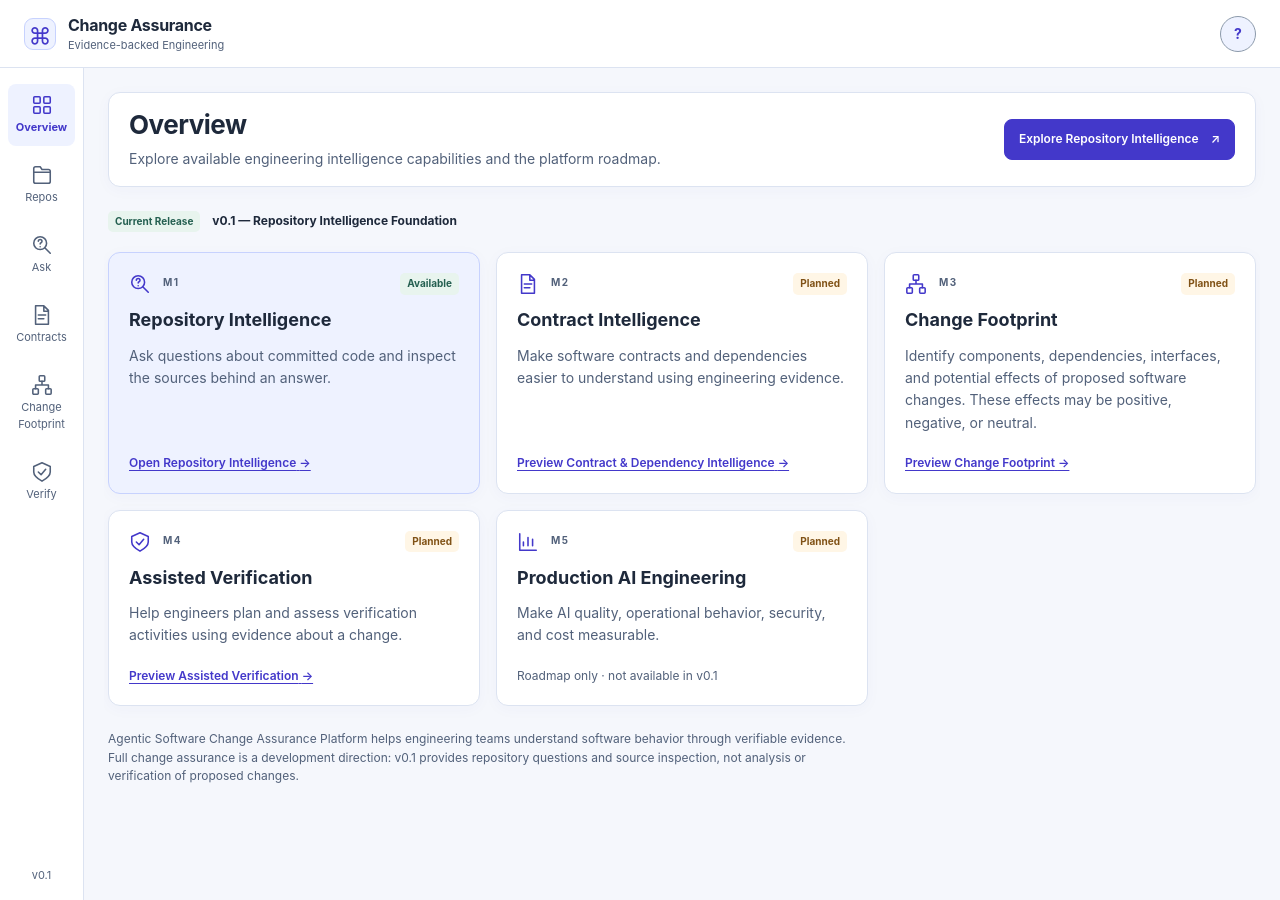
uses consistent decorative icons and keeps planned status on Change Footprint rather than repeated sidebar text
The image size is (1280, 900).
Click the link named "Change Footprint — Planned M3".
click(42, 403)  # box x1=18 y1=374 x2=65 y2=431
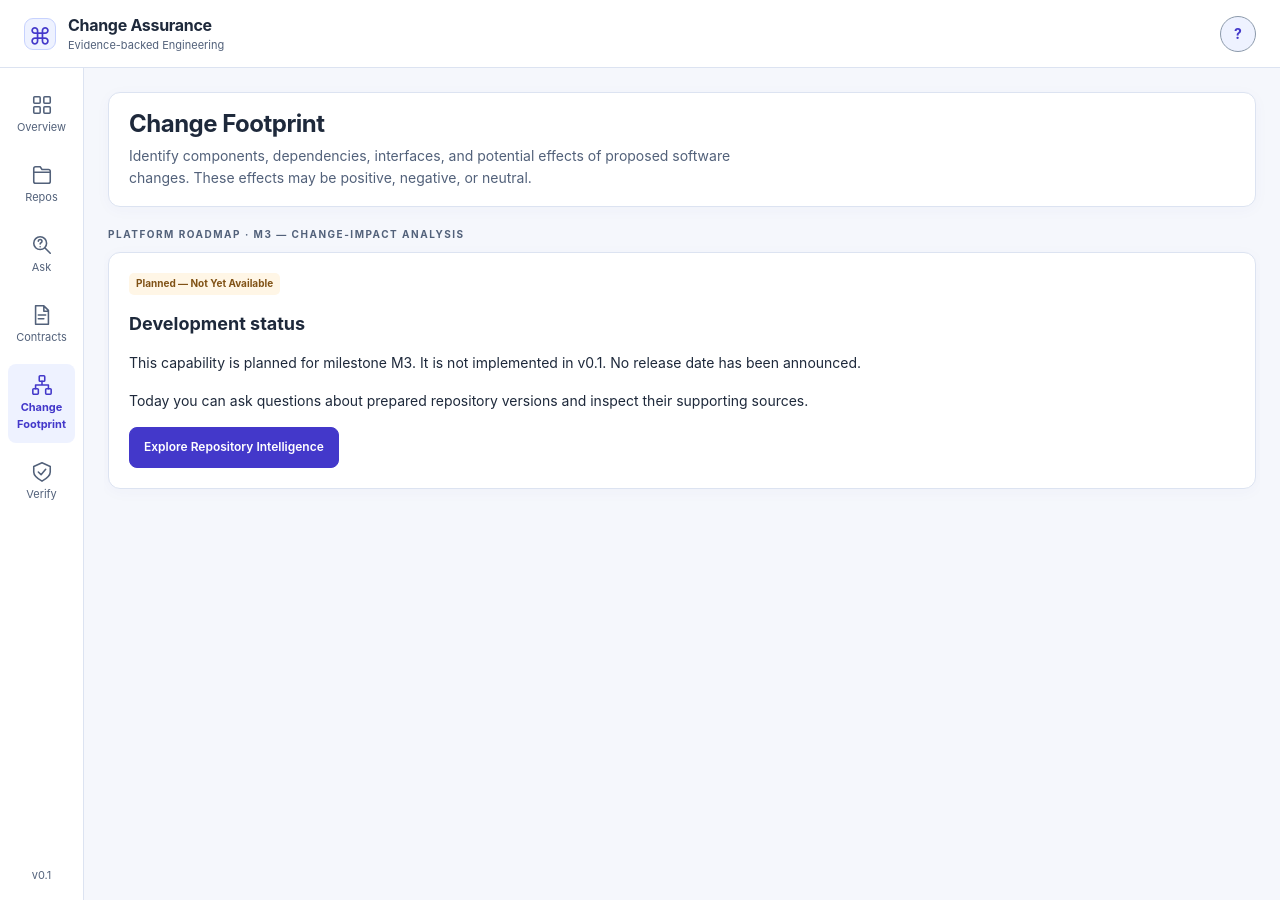
expect the text "positive, negative, or neutral" is shown: met, box x1=129 y1=147 x2=730 y2=186
expect the text "Planned — not yet available" is shown: met, box x1=129 y1=273 x2=280 y2=295
expect the text "Platform roadmap · M3 — Change-Impact Analysis" is shown: met, box x1=108 y1=228 x2=465 y2=240
